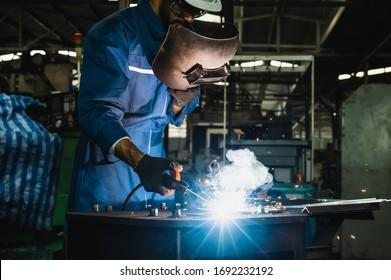gloves: (135, 154, 182, 196), (167, 86, 199, 107)
